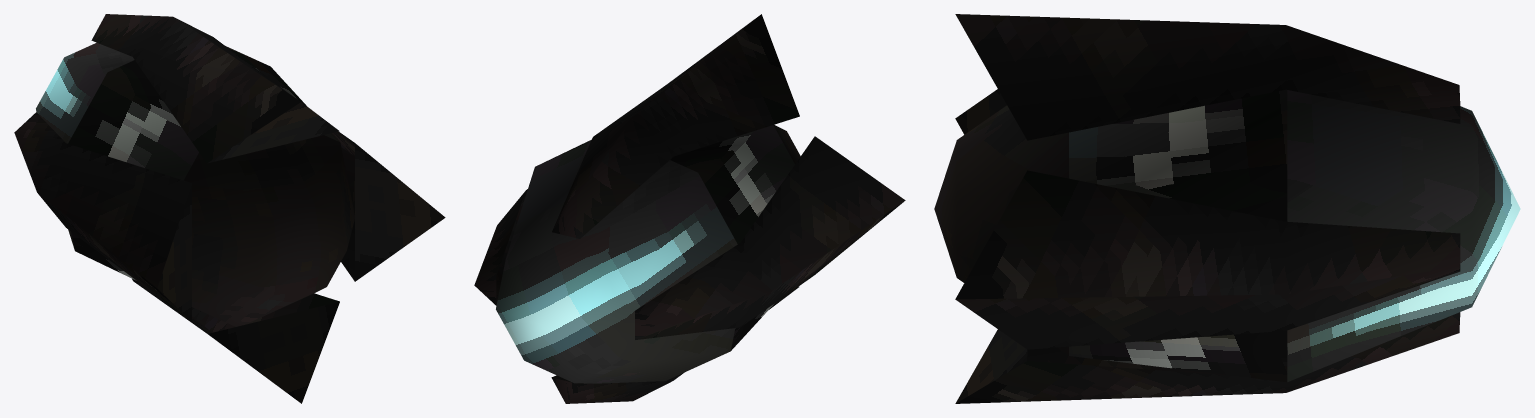
Rendered from shield_grenade.glb.
3 renders of one model, left to right at view 1: azimuth 30°, elevation 25°; view 2: azimuth 150°, elevation 25°; view 3: azimuth 270°, elevation 25°, orthographic. The views are drawn at different scales.
Parts seen in each view (by area): view 1: weapons/shield_grenade_0; view 2: weapons/shield_grenade_0; view 3: weapons/shield_grenade_0.
Part boxes in pixels (x1,y1,x2,y2): weapons/shield_grenade_0: (14, 14, 445, 403); weapons/shield_grenade_0: (474, 14, 905, 403); weapons/shield_grenade_0: (934, 14, 1520, 403).
Size of the model in its own units: 1.47 by 1.47 by 2.
1 material, 1 textured.
